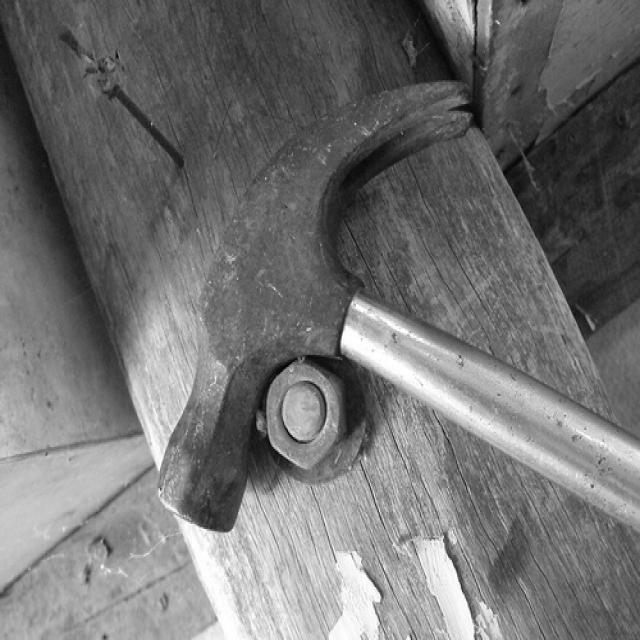hammer: (153, 49, 640, 633)
